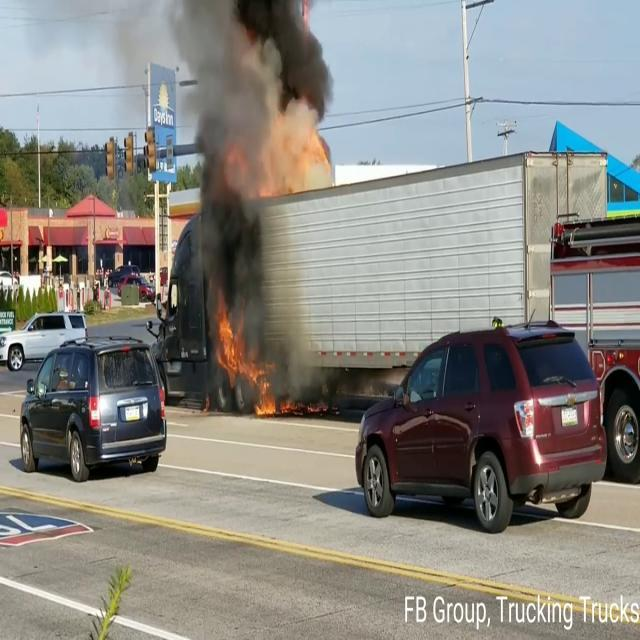Fire: (214, 296, 278, 412)
Smoke: (166, 0, 338, 401)
